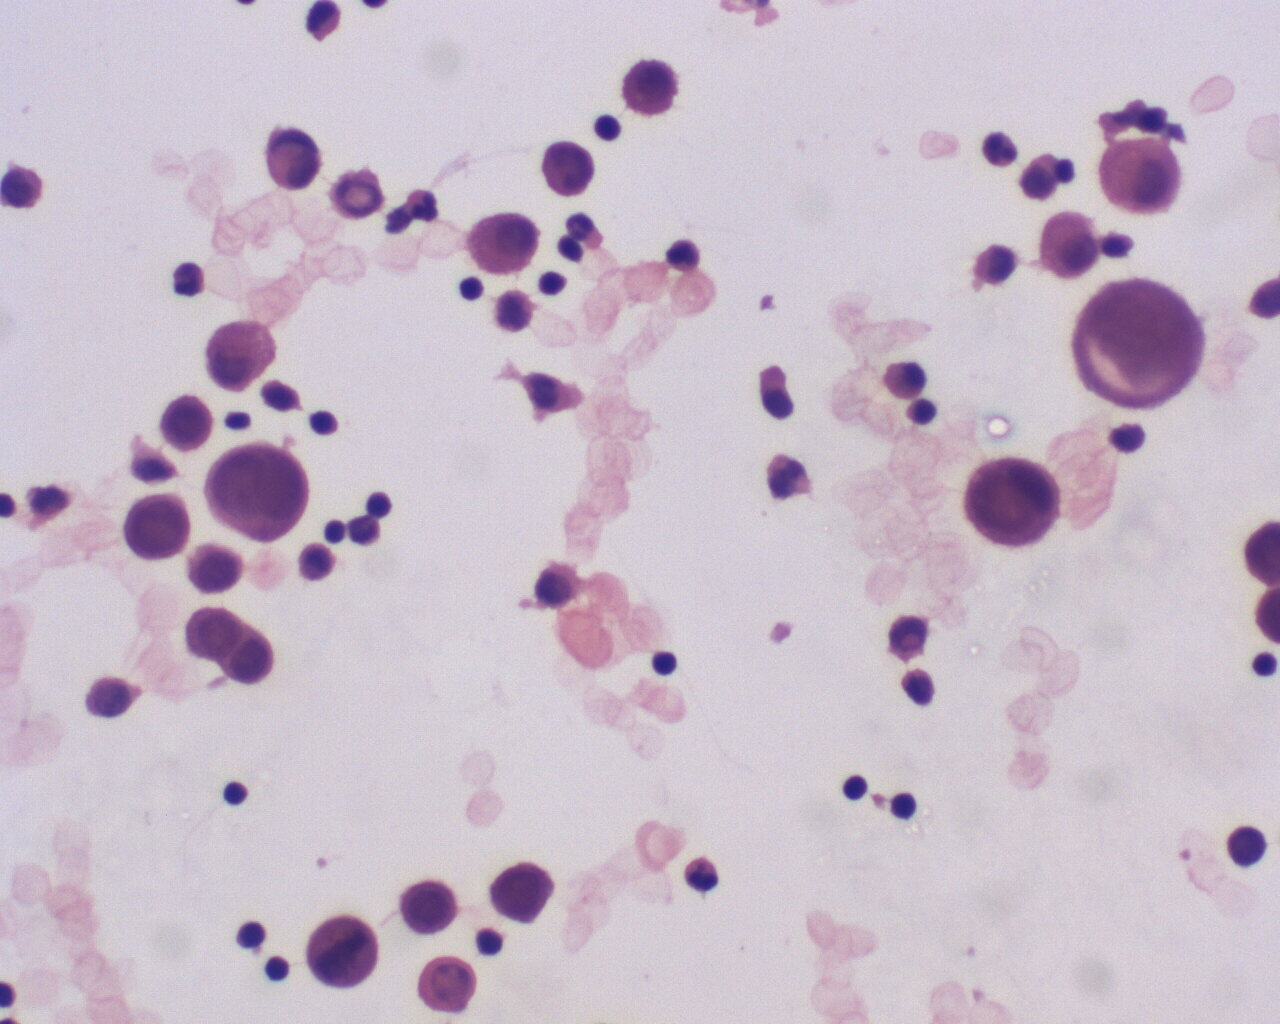ab: (1071, 267, 1209, 418), (200, 439, 304, 552), (959, 453, 1063, 555), (303, 911, 380, 991), (487, 856, 560, 928), (124, 493, 196, 565), (399, 878, 463, 937), (157, 395, 218, 455), (538, 139, 599, 199), (183, 542, 247, 595), (185, 605, 241, 664), (84, 671, 135, 721)
lymph: (302, 406, 345, 445), (838, 771, 875, 814), (643, 648, 682, 679), (263, 953, 292, 984), (222, 779, 248, 810)
meso: (1093, 133, 1187, 218), (465, 204, 543, 278), (1033, 205, 1098, 279)
neutro: (976, 126, 1025, 174), (683, 854, 724, 897)
